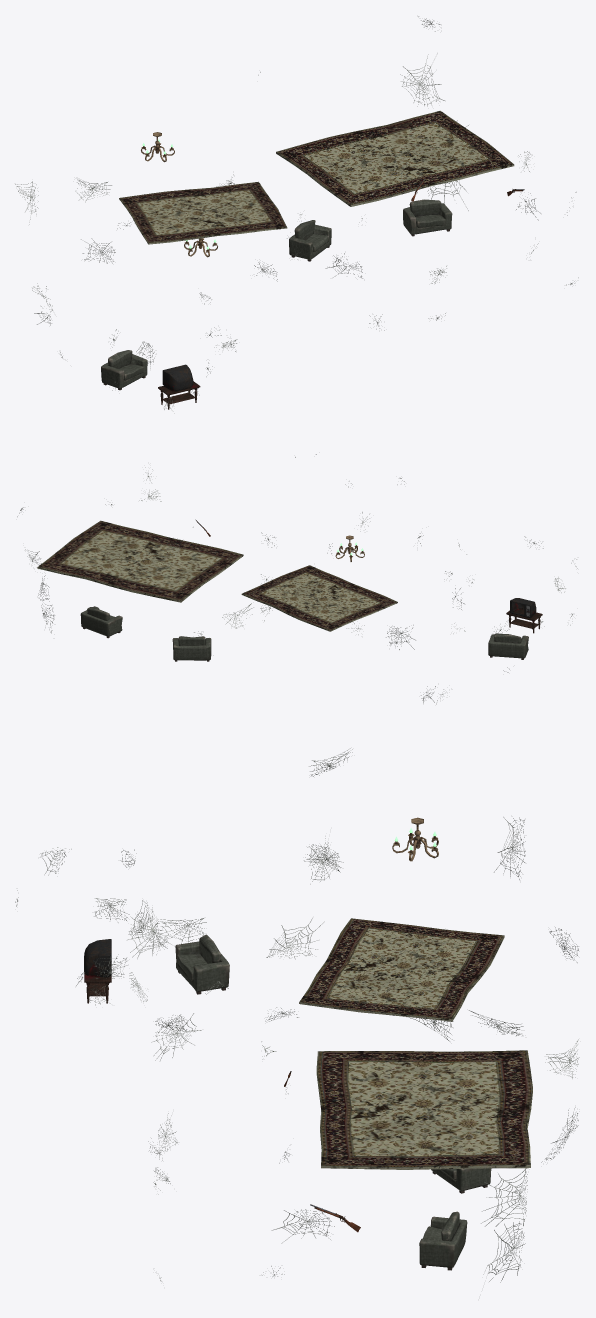
File: assets.glb
The picture shows the model from 3 angles, top to bottom: view 1: azimuth 30°, elevation 25°; view 2: azimuth 150°, elevation 25°; view 3: azimuth 270°, elevation 25°; orthographic projection. The views are drawn at different scales.
Parts seen in each view (by area): view 1: F1_carpet, F1_carpet1, sofa_2, sofa_4, sofa_1, small_table_and_TV; view 2: F1_carpet, F1_carpet1, sofa_1, sofa_4, sofa_2, small_table_and_TV; view 3: F1_carpet, F1_carpet1, sofa_4, sofa_2, small_table_and_TV, sofa_1.
Boxes of the visible parts, bbox=[...] form: F1_carpet: bbox=[276, 110, 514, 206]; F1_carpet1: bbox=[119, 181, 287, 244]; sofa_2: bbox=[403, 199, 452, 236]; sofa_4: bbox=[101, 350, 147, 390]; sofa_1: bbox=[289, 220, 331, 261]; small_table_and_TV: bbox=[158, 364, 200, 409]; F1_carpet: bbox=[37, 520, 243, 602]; F1_carpet1: bbox=[241, 565, 397, 631]; sofa_1: bbox=[172, 636, 211, 661]; sofa_4: bbox=[488, 633, 528, 659]; sofa_2: bbox=[80, 606, 122, 638]; small_table_and_TV: bbox=[506, 598, 542, 633]; F1_carpet: bbox=[316, 1050, 532, 1169]; F1_carpet1: bbox=[299, 918, 504, 1021]; sofa_4: bbox=[175, 934, 229, 994]; sofa_2: bbox=[419, 1211, 467, 1270]; small_table_and_TV: bbox=[84, 939, 111, 1003]; sofa_1: bbox=[431, 1168, 491, 1193].
Size of what is drawn, in the model's own units: 29.47 by 10.21 by 20.86.
6 materials, 5 textured.
